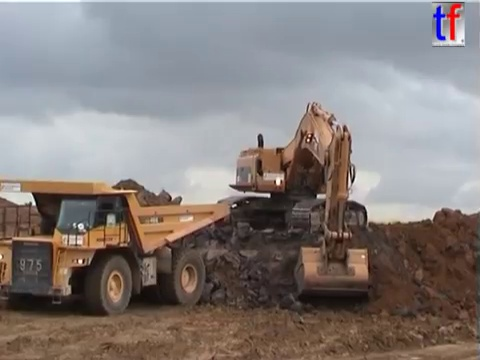excavator: (214, 98, 373, 300)
truck: (1, 176, 233, 317)
